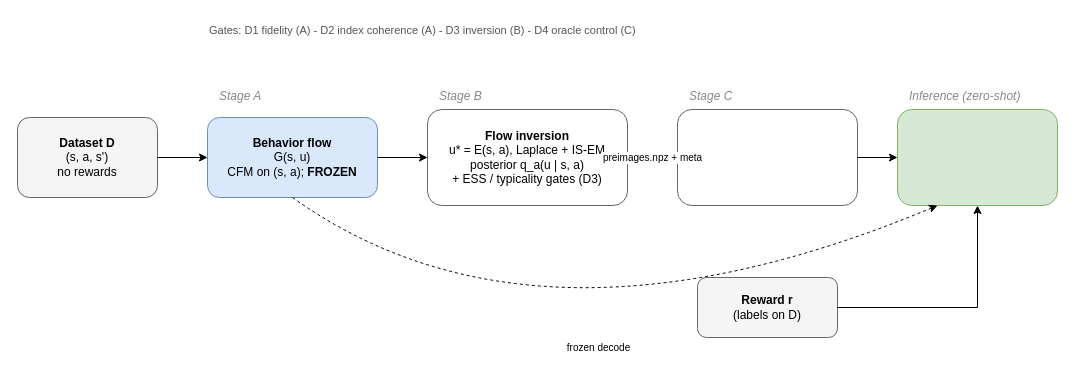
The diagram is 1075 pixels wide and 370 high, and some of its shapes have lost their labels. Each missing label, with the centre of its shape:
"Flow-GPI w = E[r phi] argmax_u max_u' psi^T w act a = G(s, u-hat)" belongs at (977,157).
"Successor measure psi(s, u', u)^T phi(x) TD: target psi(s', u', u') + ortho(phi)" belongs at (767,157).
